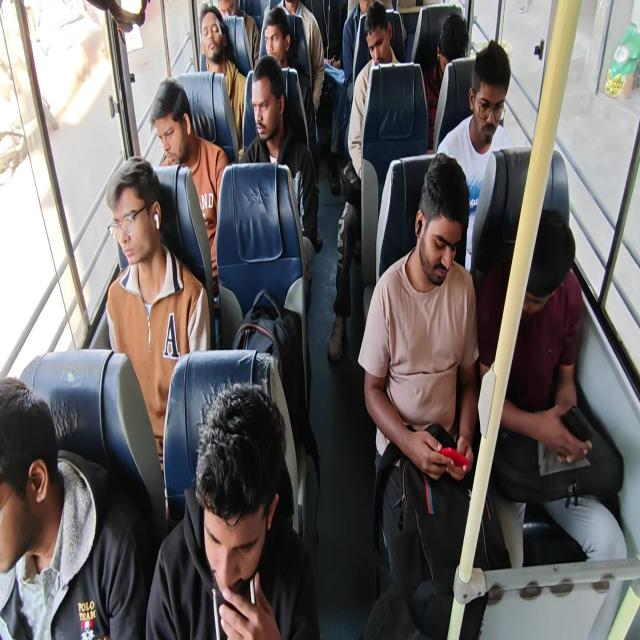person: (476, 206, 628, 638), (357, 151, 490, 637), (145, 380, 320, 639), (0, 376, 147, 639), (104, 156, 210, 492), (327, 1, 403, 362), (149, 77, 229, 306), (436, 40, 514, 272), (239, 54, 322, 264), (328, 0, 395, 194), (258, 6, 320, 188), (198, 2, 247, 152), (269, 0, 325, 115), (422, 12, 469, 148), (216, 0, 260, 71)
